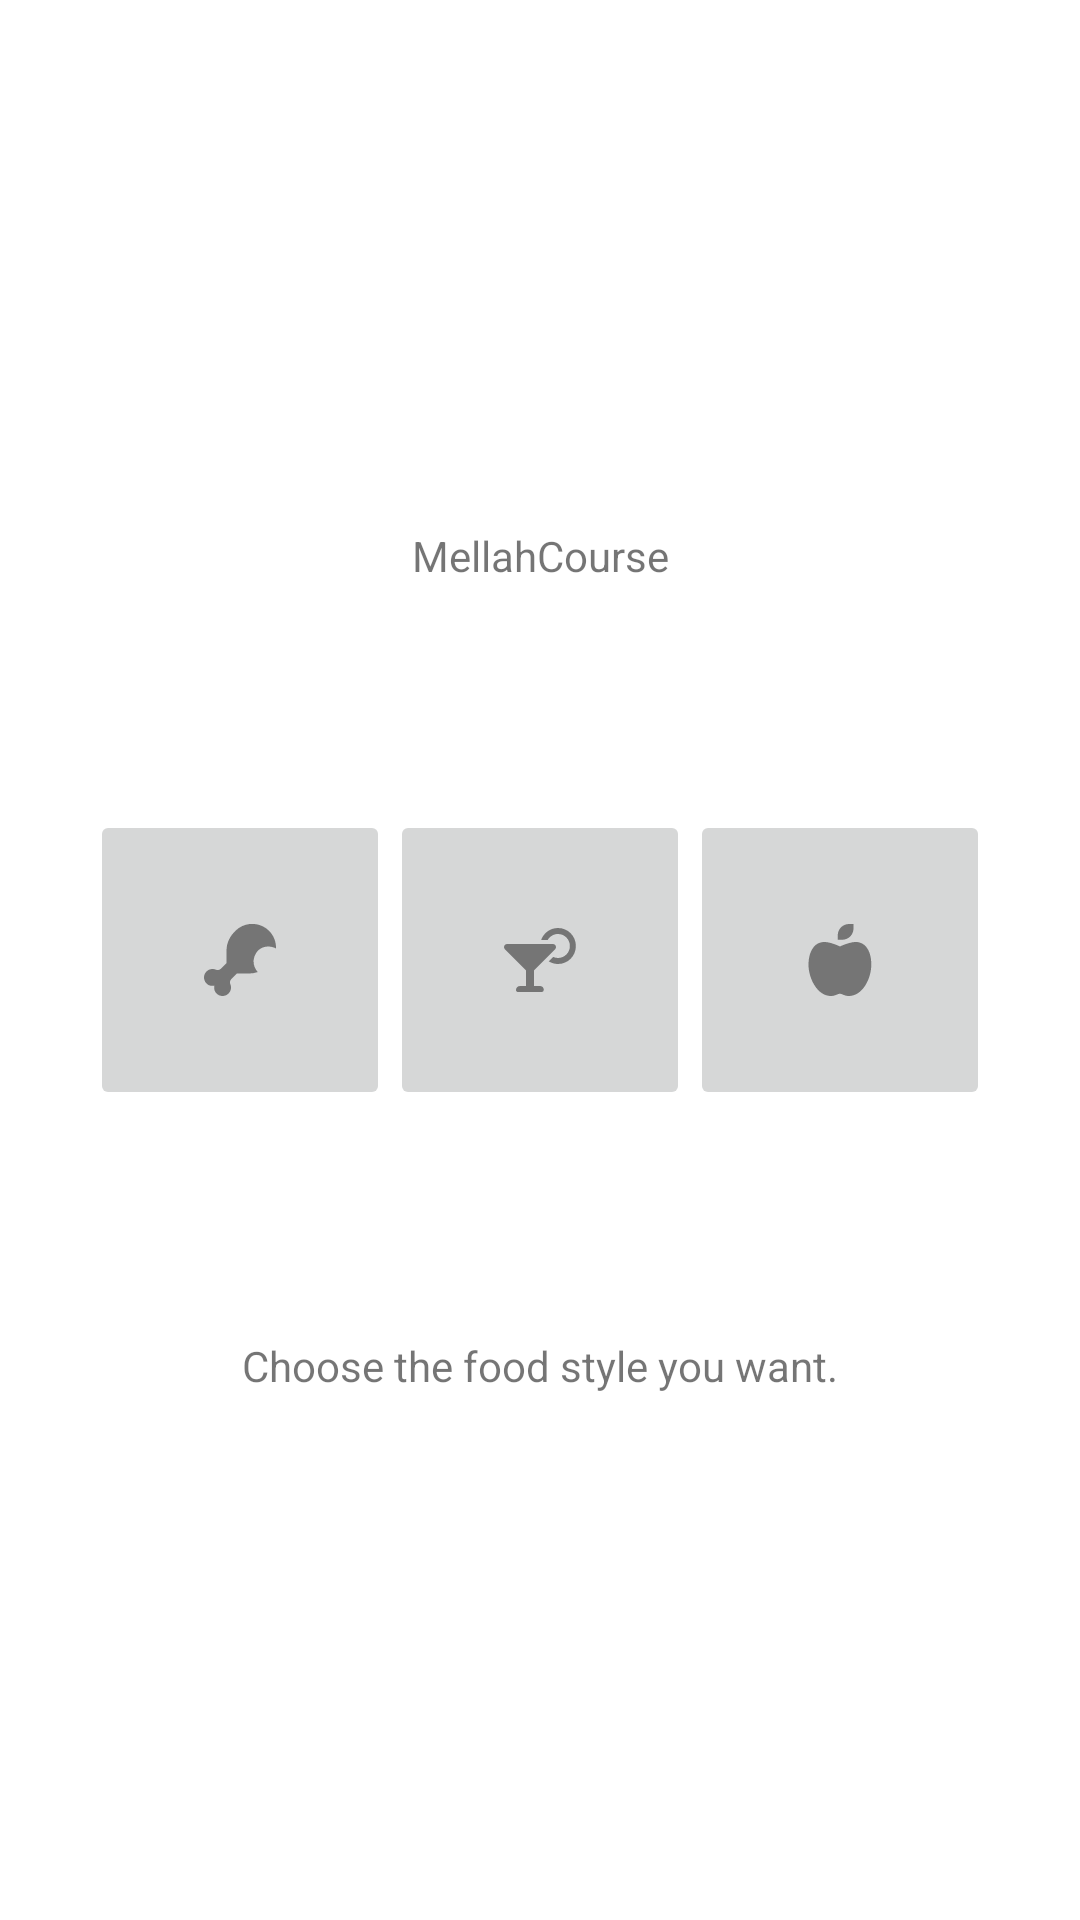

Icon bounding boxes for this 1080 × 1920 phone screenshot, format [left=x1, top=y1, right=x2, bottom=y2]:
boisson: [left=402, top=828, right=678, bottom=1092]
fruit: [left=702, top=828, right=978, bottom=1092]
viande: [left=102, top=828, right=378, bottom=1092]
